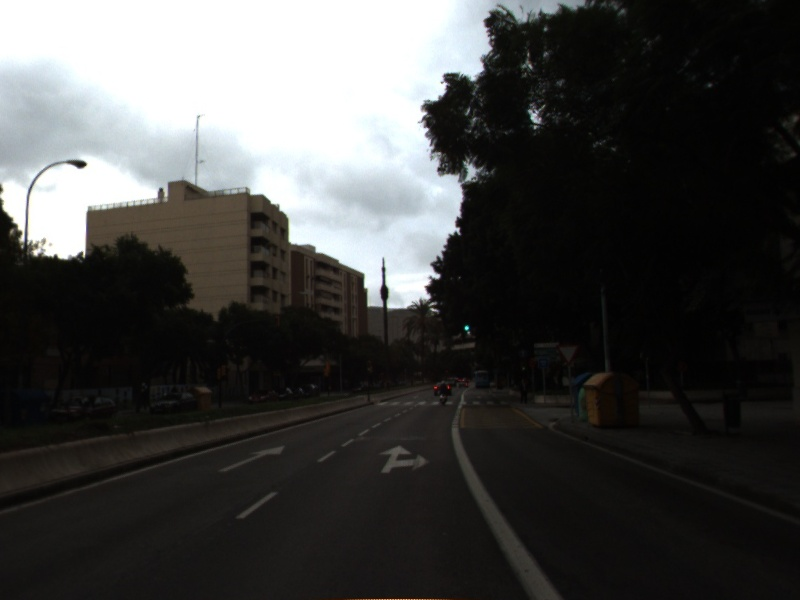STRAIGHT: (216, 444, 287, 474)
STRAIGHT_RIGHT: (377, 443, 433, 475)
